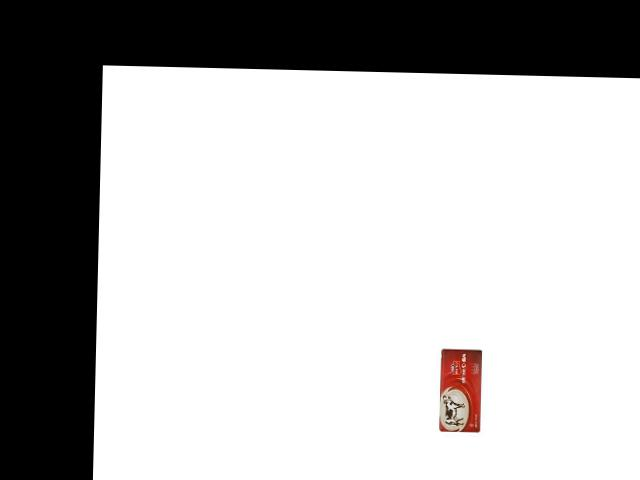chocolate: (439, 346, 484, 432)
